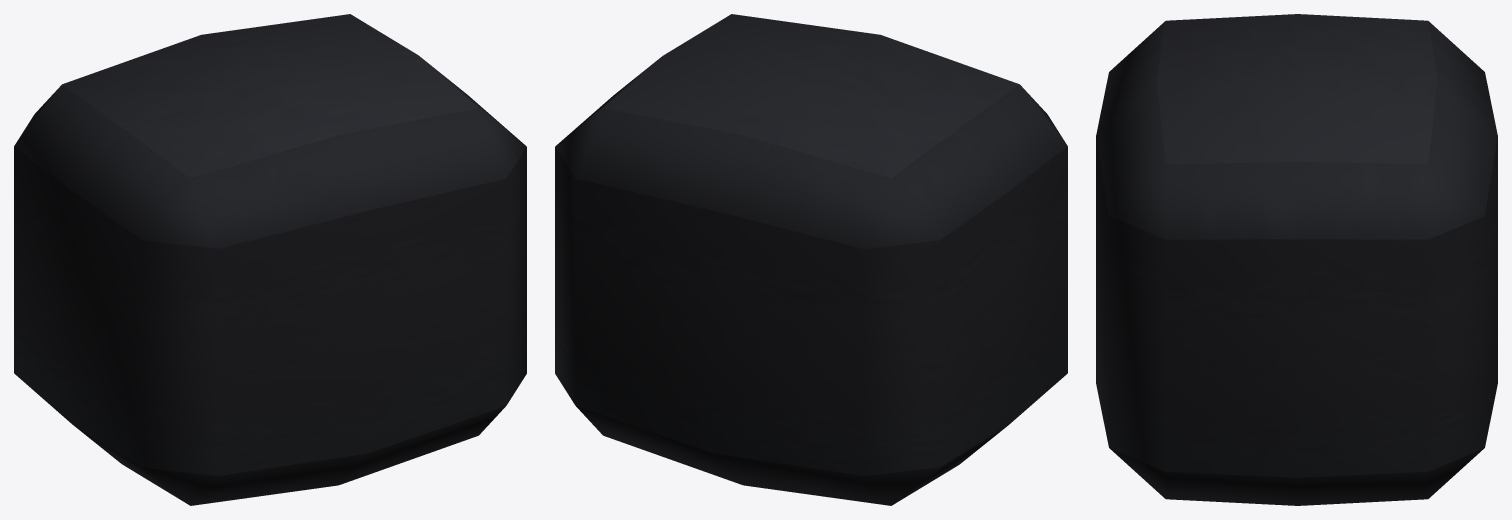
Rendered from hair_afro.fbx.
3 renders of one model, left to right at view 1: azimuth 30°, elevation 25°; view 2: azimuth 150°, elevation 25°; view 3: azimuth 270°, elevation 25°, orthographic. The views are drawn at different scales.
Parts seen in each view (by area): view 1: hair_afro; view 2: hair_afro; view 3: hair_afro.
Part boxes in pixels (left/top/right/bottom): hair_afro: left=14, top=14, right=526, bottom=505; hair_afro: left=555, top=14, right=1067, bottom=505; hair_afro: left=1096, top=14, right=1497, bottom=505.
Bounding box in the file's own units: 82.24 × 71.59 × 70.87.
